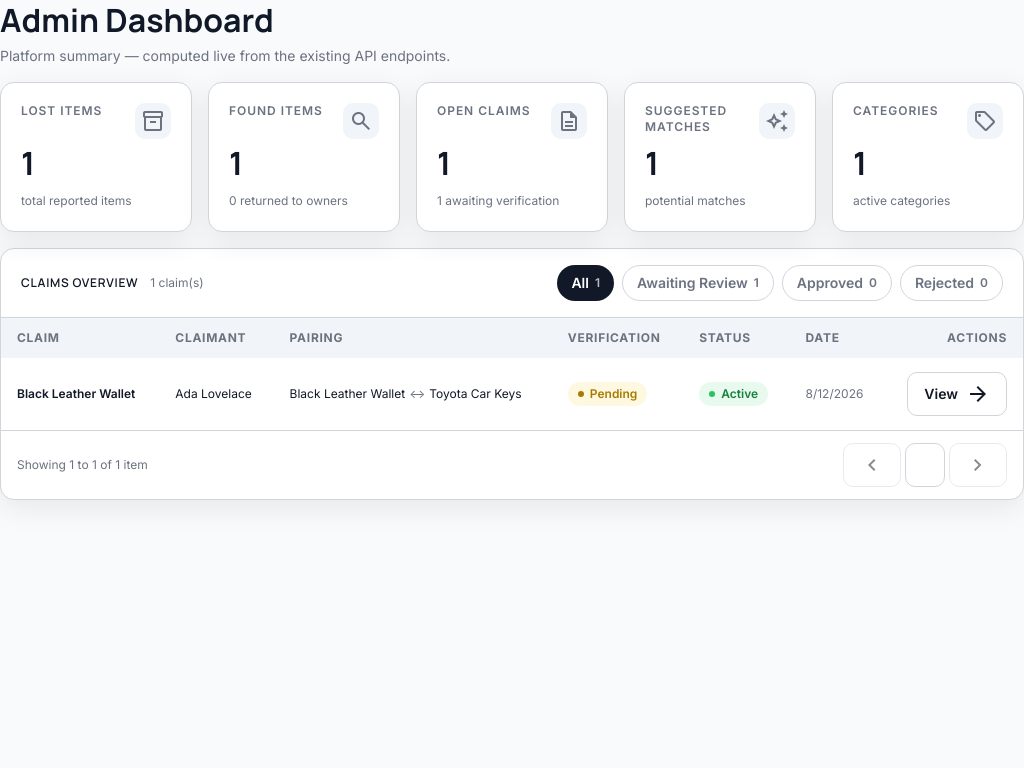
Scenario: Admin dashboard toolbars › opens a read-only claim detail from the row's View action
This screenshot has width=1024, height=768.
Expected: the heading "Claims overview" is shown, [21,275,138,291]
Click the button "View". click: (957, 394)
box: [907,372,1007,416]
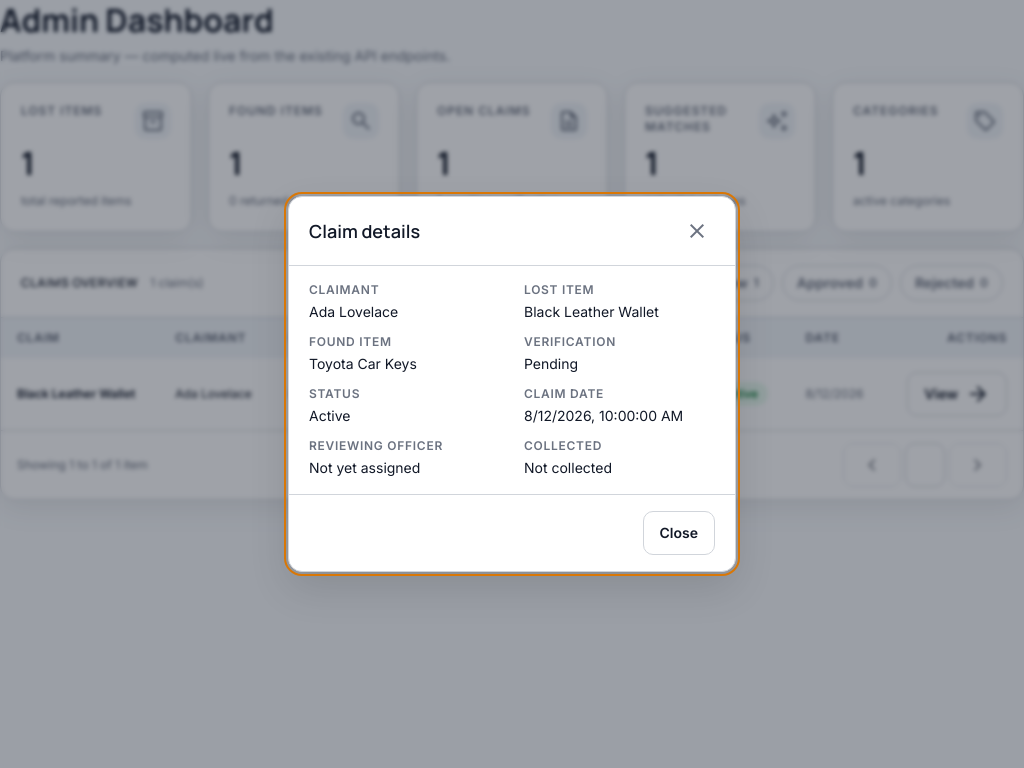
Expected: the dialog is shown, [288,196,736,572]
Expected: the text "Not yet assigned" is shown, [309,459,420,476]
Expected: the text "Not collected" is shown, [524,459,612,476]
